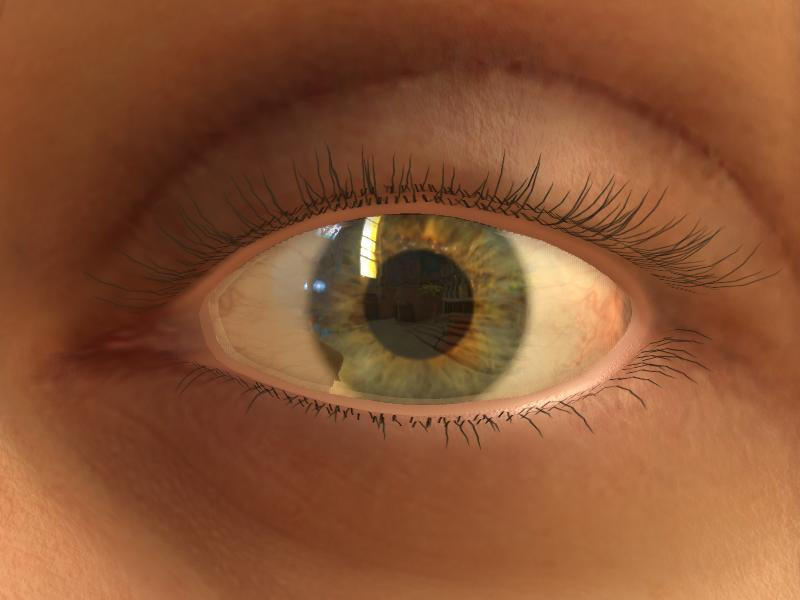eye: (315, 214, 530, 400)
